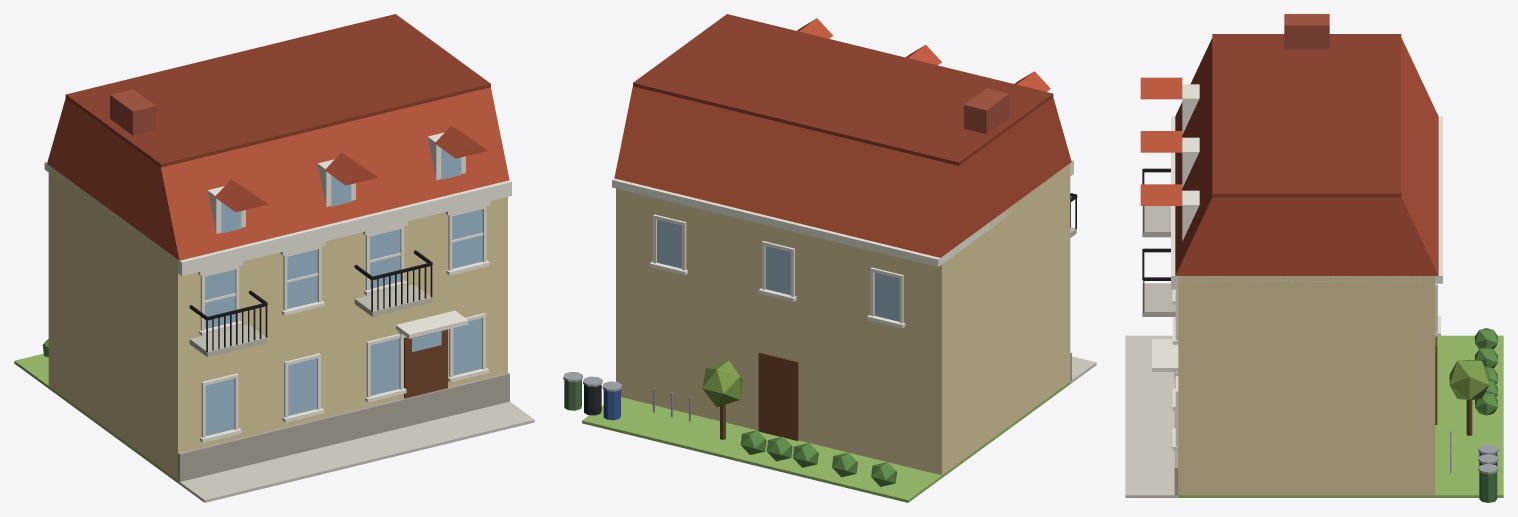
The model's file is Blok_duz_2k_4_Hafif.fbx.
3 views of the same model, side by side, from view 1: azimuth 30°, elevation 25°; view 2: azimuth 150°, elevation 25°; view 3: azimuth 270°, elevation 25° (orthographic).
Parts seen in each view (by area): view 1: Blok_duz_2k_4_Hafif; view 2: Blok_duz_2k_4_Hafif; view 3: Blok_duz_2k_4_Hafif.
Boxes of the visible parts, x1,y1,x2,y2 form: Blok_duz_2k_4_Hafif: (14, 14, 534, 502); Blok_duz_2k_4_Hafif: (563, 14, 1096, 502); Blok_duz_2k_4_Hafif: (1125, 14, 1503, 502).
Bounding box in the file's own units: 10.77 × 9.58 × 10.
